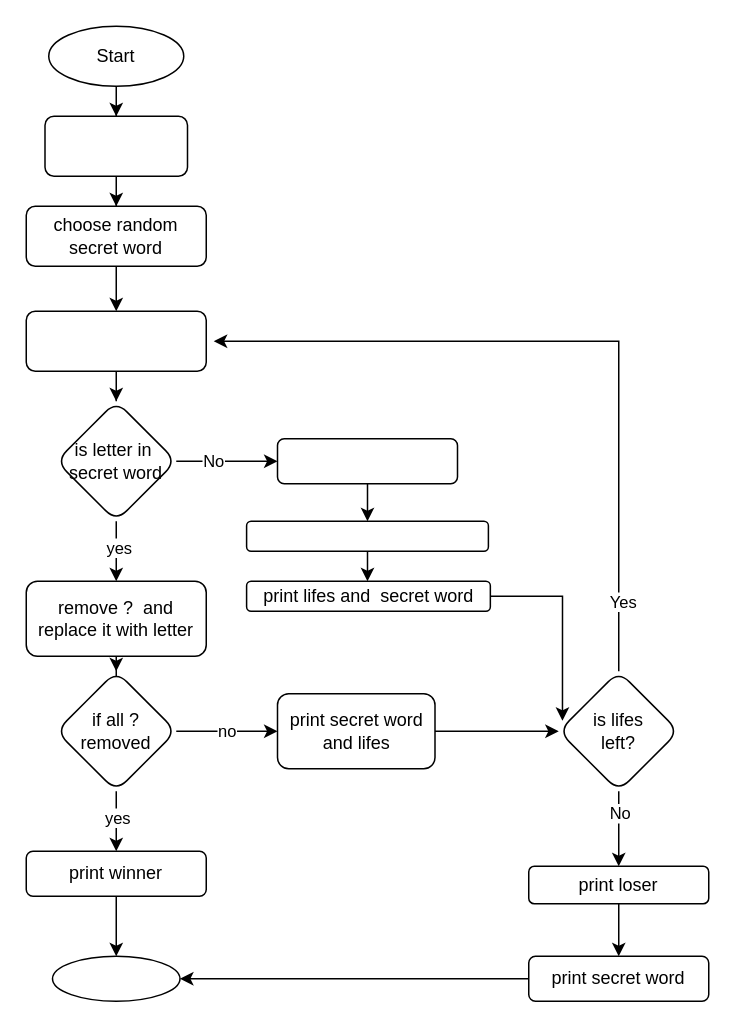
The diagram is 735 pixels wide and 1028 high, and some of its shapes have lost their labels. Each missing label, with the box of its shape:
Ask the user to select a letter: (25, 310, 206, 371)
end: (51, 955, 180, 1001)
print incorrect letter: (245, 520, 488, 551)
Remove 1 life: (276, 437, 458, 484)
set lifes to 9: (44, 115, 188, 176)
